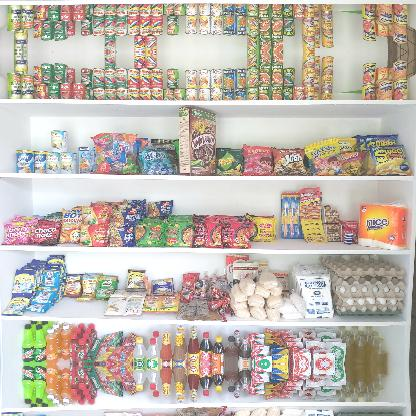Koko-Krunch: (178, 105, 216, 175)
